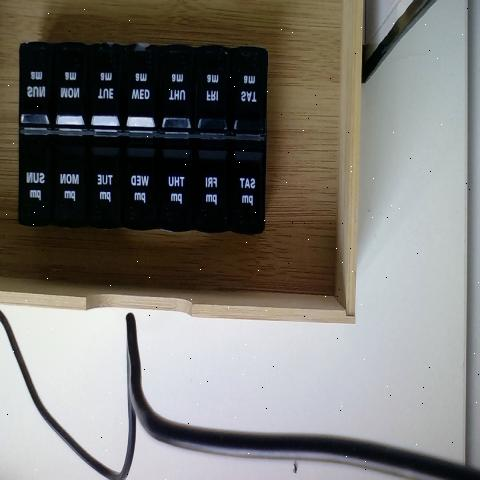FRI-am: (199, 44, 233, 132)
FRI-pm: (200, 137, 236, 222)
MON-am: (60, 44, 94, 135)
MON-pm: (61, 144, 99, 228)
SAT-am: (234, 46, 271, 134)
SAT-pm: (234, 139, 270, 231)
SUN-am: (26, 44, 60, 142)
SUN-pm: (26, 144, 62, 228)
THU-am: (165, 44, 198, 137), (97, 45, 127, 134)
THU-pm: (162, 136, 198, 224)
TUE-pm: (98, 143, 133, 226)
WED-am: (127, 43, 164, 130)
WED-pm: (130, 136, 165, 227)
